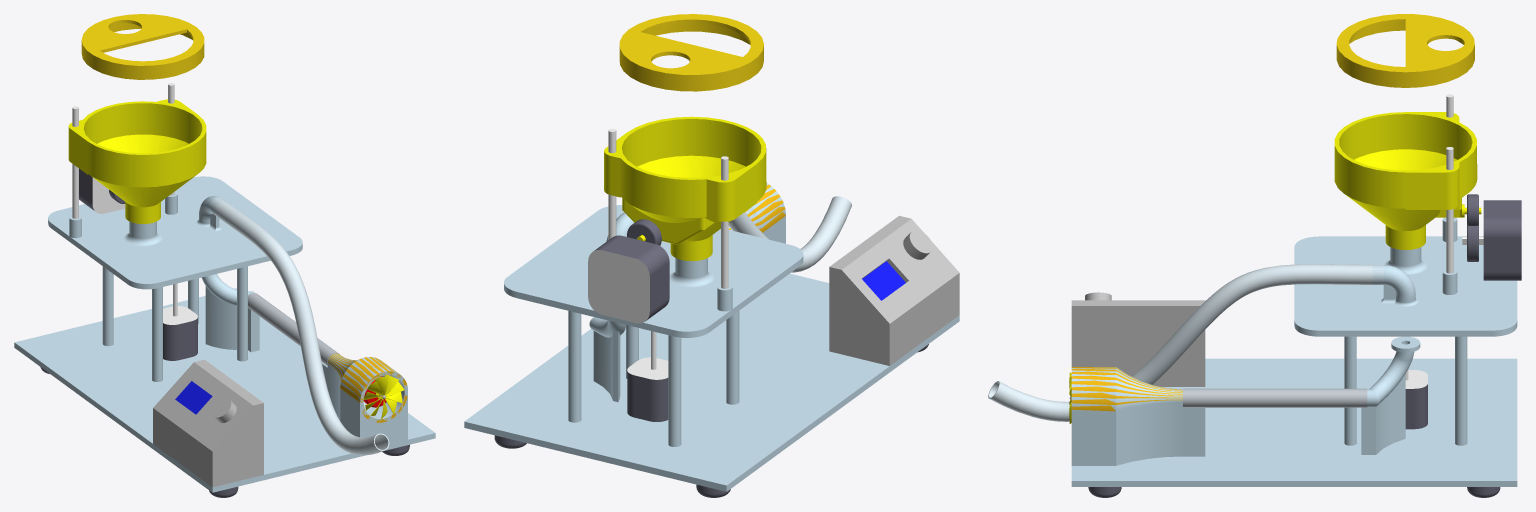
File: FruitFlyDispenser.gltf
The picture shows the model from 3 angles, left to right: view 1: azimuth 30°, elevation 25°; view 2: azimuth 150°, elevation 25°; view 3: azimuth 270°, elevation 25°; orthographic projection. The views are drawn at different scales.
Parts seen in each view (by area): view 1: mesh229_meshnode_229, mesh164_meshnode_164, mesh56_meshnode_56, mesh327_meshnode_327, mesh325_meshnode_325, mesh71_meshnode_71, mesh65_meshnode_65, mesh79_meshnode_79, mesh252_meshnode_252, mesh82_meshnode_82, mesh66_meshnode_66, mesh236_meshnode_236 (+25 smaller); view 2: mesh229_meshnode_229, mesh164_meshnode_164, mesh325_meshnode_325, mesh71_meshnode_71, mesh65_meshnode_65, mesh78_meshnode_78, mesh187_meshnode_187, mesh334_meshnode_334, mesh82_meshnode_82, mesh66_meshnode_66, mesh56_meshnode_56, mesh251_meshnode_251 (+27 smaller); view 3: mesh229_meshnode_229, mesh164_meshnode_164, mesh81_meshnode_81, mesh55_meshnode_55, mesh325_meshnode_325, mesh65_meshnode_65, mesh59_meshnode_59, mesh245_meshnode_245, mesh249_meshnode_249, mesh327_meshnode_327, mesh239_meshnode_239, mesh66_meshnode_66 (+23 smaller).
Part boxes in pixels (box(x1,y1,x2,y2)): mesh229_meshnode_229: box(14, 288, 434, 474); mesh164_meshnode_164: box(48, 176, 302, 283); mesh56_meshnode_56: box(217, 204, 381, 455); mesh327_meshnode_327: box(88, 132, 206, 187); mesh325_meshnode_325: box(84, 103, 202, 143); mesh71_meshnode_71: box(153, 362, 253, 451); mesh65_meshnode_65: box(81, 14, 204, 65); mesh79_meshnode_79: box(212, 403, 263, 487); mesh252_meshnode_252: box(212, 371, 435, 492); mesh82_meshnode_82: box(153, 408, 212, 487); mesh66_meshnode_66: box(81, 40, 204, 79); mesh236_meshnode_236: box(205, 286, 236, 349); mesh229_meshnode_229: box(464, 273, 889, 485); mesh164_meshnode_164: box(504, 205, 803, 331); mesh325_meshnode_325: box(622, 119, 761, 166); mesh71_meshnode_71: box(842, 219, 959, 323); mesh65_meshnode_65: box(619, 14, 763, 74); mesh78_meshnode_78: box(829, 267, 889, 365); mesh187_meshnode_187: box(588, 250, 649, 323); mesh334_meshnode_334: box(620, 158, 706, 217); mesh82_meshnode_82: box(889, 273, 959, 365); mesh66_meshnode_66: box(619, 45, 763, 91); mesh56_meshnode_56: box(729, 196, 851, 272); mesh251_meshnode_251: box(464, 421, 726, 491); mesh229_meshnode_229: box(1071, 358, 1517, 480); mesh164_meshnode_164: box(1294, 236, 1517, 330); mesh81_meshnode_81: box(1071, 306, 1205, 386); mesh55_meshnode_55: box(990, 264, 1367, 421); mesh325_meshnode_325: box(1339, 114, 1472, 159); mesh65_meshnode_65: box(1336, 14, 1474, 72); mesh59_meshnode_59: box(1183, 388, 1367, 407); mesh245_meshnode_245: box(1116, 402, 1182, 465); mesh249_meshnode_249: box(1071, 481, 1517, 486); mesh327_meshnode_327: box(1334, 146, 1405, 208); mesh239_meshnode_239: box(1071, 411, 1116, 465); mesh66_meshnode_66: box(1336, 45, 1474, 87).
Size of what is drawn, in the model's own units: 0.13 by 0.1908 by 0.2394.
